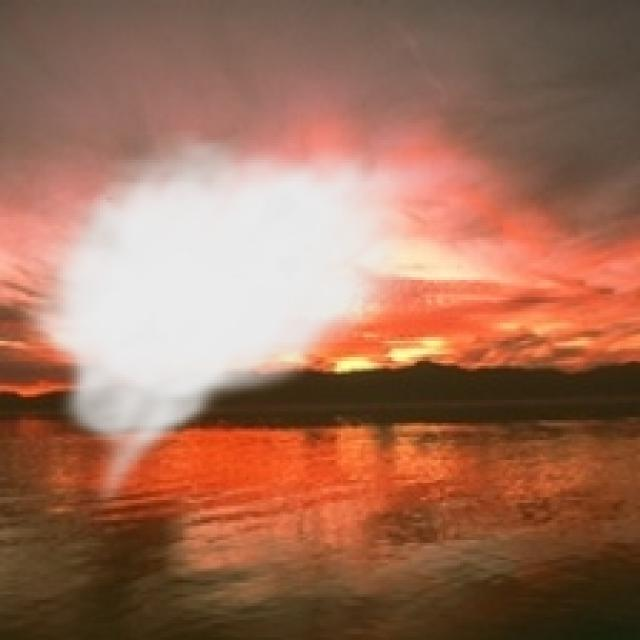smoke: (12, 129, 434, 514)
